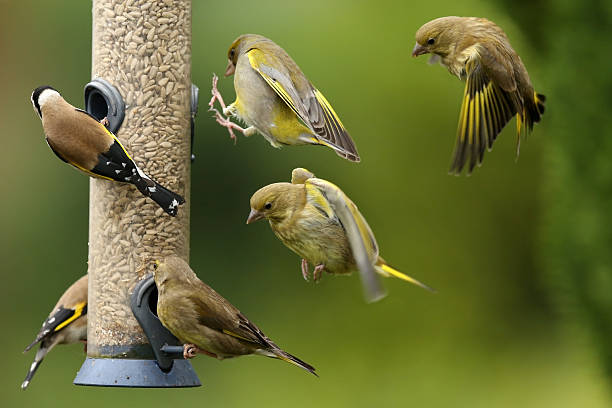Bird: (243, 165, 436, 310), (404, 11, 550, 183), (148, 250, 325, 382), (23, 82, 186, 216), (205, 31, 365, 163), (17, 271, 88, 392)
